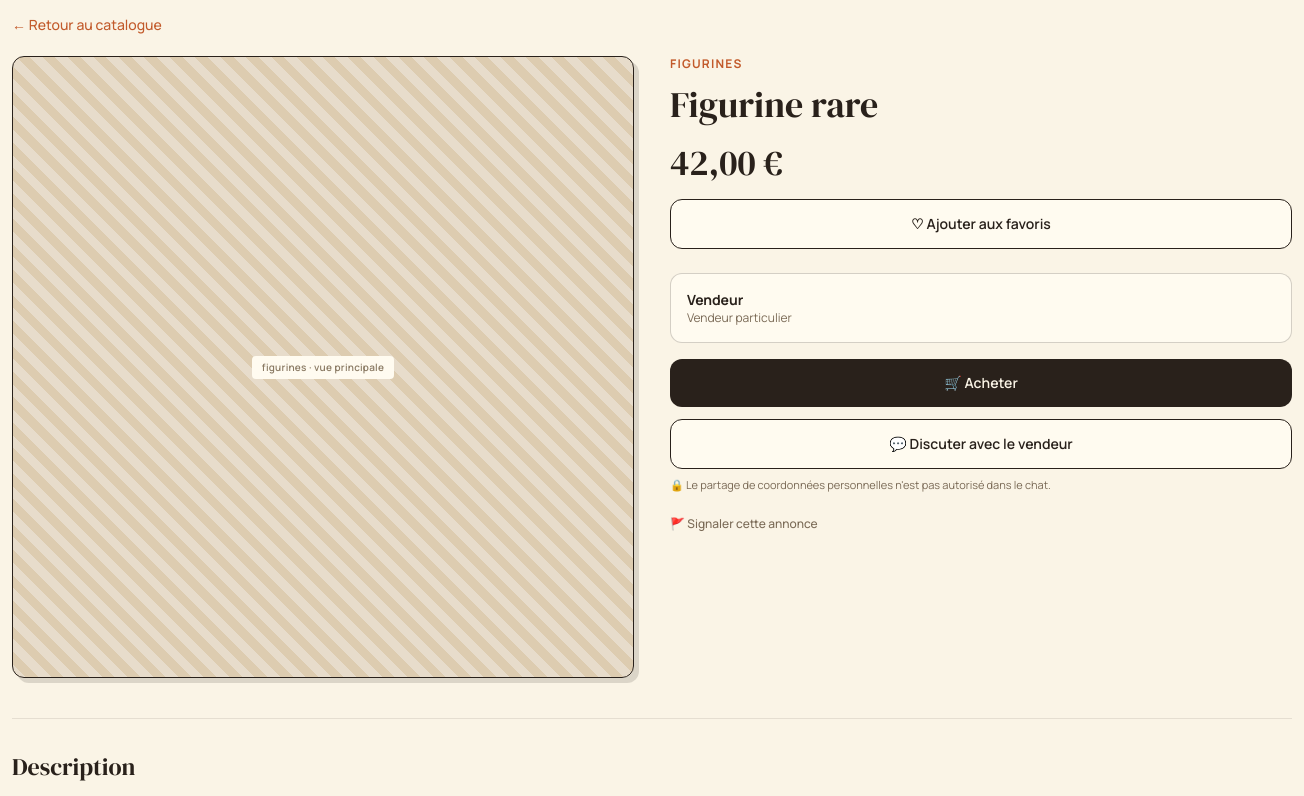
Test: ListingDetailPage › shows an error message when the purchase fails
What coordinates should you click on to do the following:
click the button "🛒 Acheter"
I would click on:
 (981, 383)
Its box is 670,359 -> 1292,407.
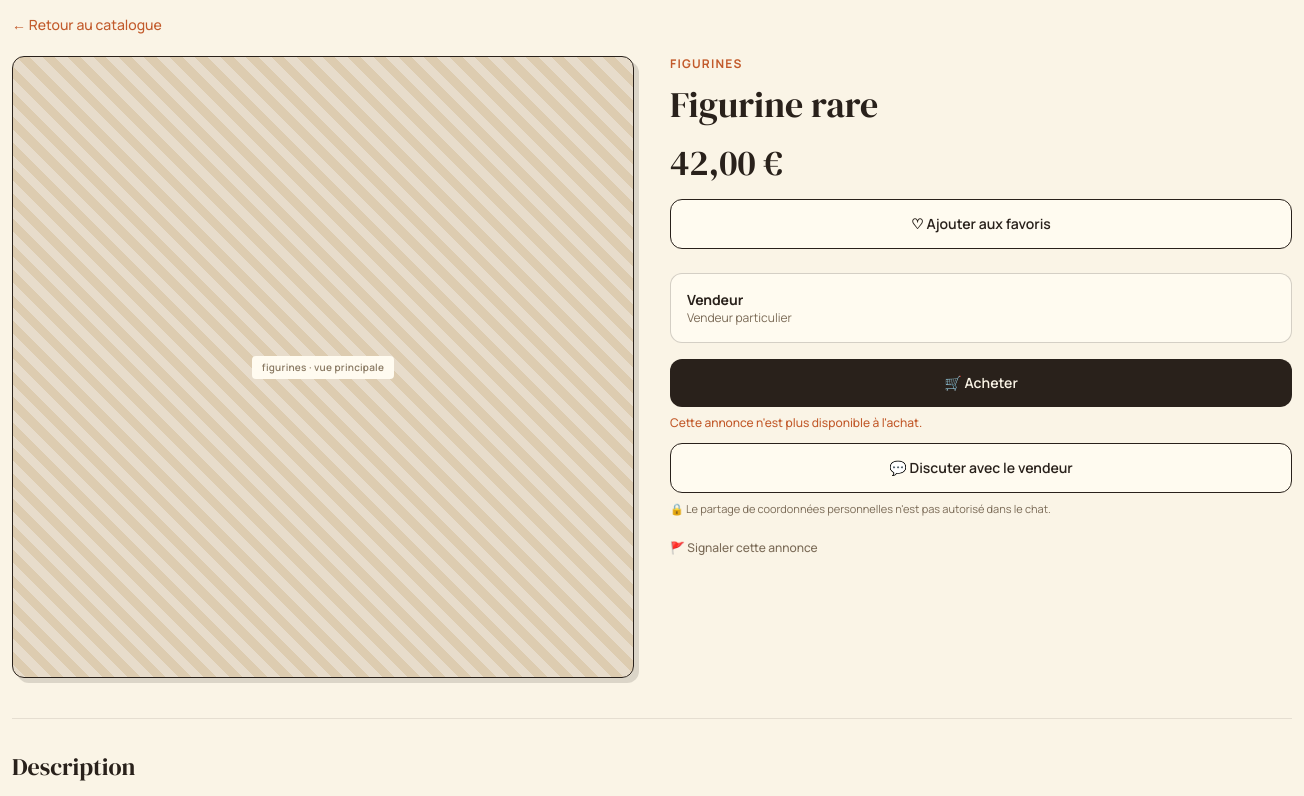
Now the text "Cette annonce n'est plus disponible à l'achat." is shown, box 670,414 -> 922,431
